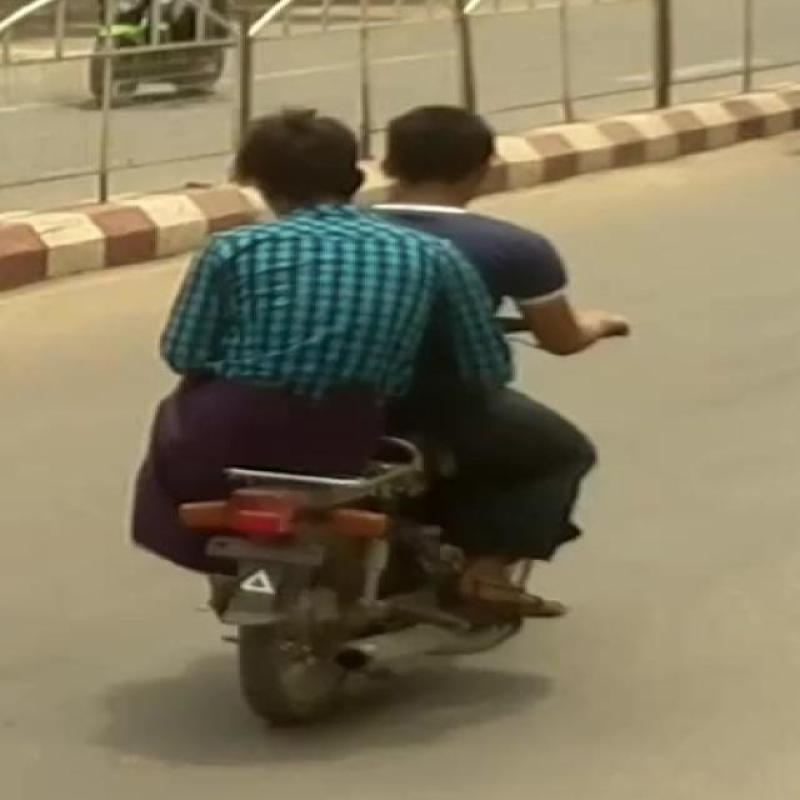nohelmet: (242, 102, 400, 216), (404, 104, 534, 220)
